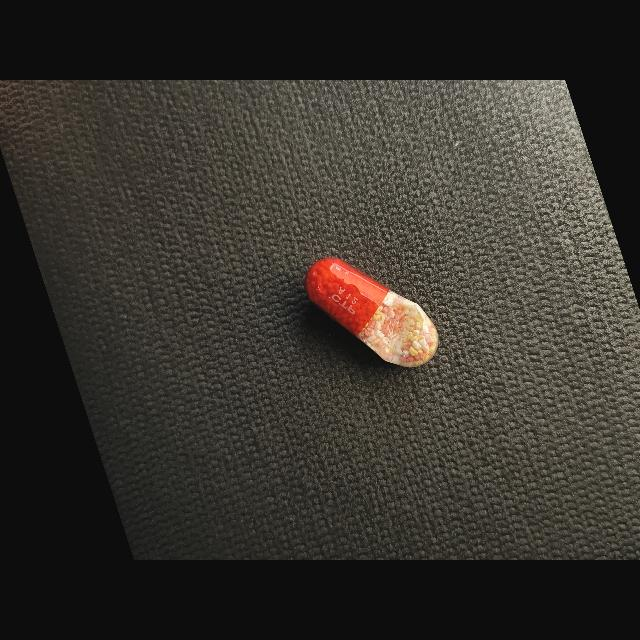Defective Capsule: (305, 258, 438, 367)
